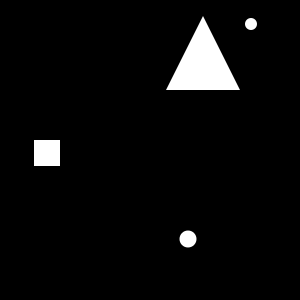circle: (34, 140, 60, 166)
rectangle: (180, 230, 196, 248), (245, 18, 257, 30)
triangle: (166, 16, 240, 90)
